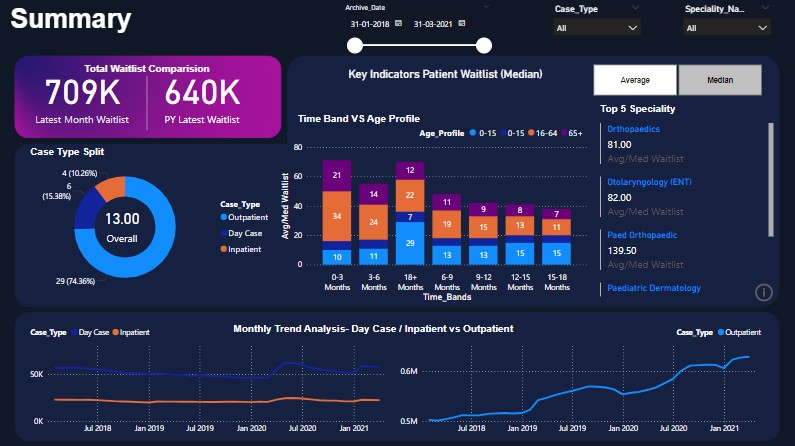

The dashboard page shown, as its layout file describes it:
{"tool":"powerbi","page":{"name":"Summary","canvas":[1280,720],"ordinal":0},"visuals":[{"type":"card","fields":{"Values":["All_Data.Latest Month Waitlist"]},"box":[48,96,176,112],"z":0},{"type":"card","fields":{"Values":["All_Data.PY Latest Waitlist"]},"box":[240,96,176,112],"z":1000},{"type":"slicer","fields":{"Values":["Calculation Method.Calc Method"]},"box":[928,96,320,64],"z":2000},{"type":"donutChart","fields":{"Category":["All_Data.Case_Type"],"Y":["All_Data.Avg/Med Waitlist"]},"box":[47.5,245,400,235],"z":3000},{"type":"columnChart","fields":{"Y":["All_Data.Avg/Med Waitlist"],"Category":["All_Data.Time_Bands"],"Series":["All_Data.Age_Profile"]},"box":[447.5,192.5,500,296.2],"z":4000},{"type":"multiRowCard","fields":{"Values":["All_Data.Speciality_Name","All_Data.Avg/Med Waitlist"]},"box":[960,192.5,287.5,287.5],"z":5000},{"type":"card","fields":{"Values":["All_Data.NoDataLeft"]},"box":[0,541.2,571.2,155],"z":5500},{"type":"lineChart","fields":{"Category":["All_Data.Archive_Date"],"Y":["Sum(All_Data.Total)"],"Series":["All_Data.Case_Type"]},"box":[48,512,592,192],"z":6000},{"type":"card","fields":{"Values":["All_Data.NoDataRight"]},"box":[663.8,541.2,571.2,155],"z":6500},{"type":"lineChart","fields":{"Category":["All_Data.Archive_Date"],"Y":["Sum(All_Data.Total)"],"Series":["All_Data.Case_Type"]},"box":[640,512,592,192],"z":7000},{"type":"slicer","fields":{"Values":["All_Data.Archive_Date"]},"box":[544,0,256,96],"z":8000},{"type":"slicer","fields":{"Values":["All_Data.Case_Type"]},"box":[880,0,160,80],"z":9000},{"type":"slicer","fields":{"Values":["All_Data.Speciality_Name"]},"box":[1088,0,160,80],"z":10000},{"type":"textbox","box":[16,0,512,80],"z":11000},{"type":"card","fields":{"Values":["All_Data.Avg/Med Waitlist"]},"box":[144,304,112,112],"z":12000},{"type":"shape","box":[90,122.5,300,86.2],"z":13000},{"type":"textbox","box":[90,96.2,300,31.2],"z":14000},{"type":"textbox","box":[47.5,228.8,352.5,32.5],"z":15000},{"type":"textbox","box":[475,176.2,218.8,32.5],"z":16000},{"type":"textbox","box":[960,160,156.2,32.5],"z":17000},{"type":"textbox","box":[100,512.5,1003.8,38.8],"z":18000},{"type":"card","fields":{"Values":["All_Data.Dynamic Title"]},"box":[483.8,83.8,466.2,68.8],"z":19000},{"type":"actionButton","box":[1208.8,448.8,38.8,40],"z":22000}]}

Visuals, with their boxes in screenshot pixels (x1, y1, x2, y2), scaled from the page's 1280x720 canvas onto the 795x446 screenshot:
card - All_Data.Latest Month Waitlist: [30, 59, 139, 129]
card - All_Data.PY Latest Waitlist: [149, 59, 258, 129]
slicer - Calculation Method.Calc Method: [576, 59, 775, 99]
donutChart - All_Data.Case_Type x All_Data.Avg/Med Waitlist: [30, 152, 278, 297]
columnChart - All_Data.Avg/Med Waitlist x All_Data.Time_Bands: [278, 119, 588, 303]
multiRowCard - All_Data.Speciality_Name x All_Data.Avg/Med Waitlist: [596, 119, 775, 297]
card - All_Data.NoDataLeft: [0, 335, 355, 431]
lineChart - All_Data.Archive_Date x Sum(All_Data.Total): [30, 317, 398, 436]
card - All_Data.NoDataRight: [412, 335, 767, 431]
lineChart - All_Data.Archive_Date x Sum(All_Data.Total): [398, 317, 765, 436]
slicer - All_Data.Archive_Date: [338, 0, 497, 59]
slicer - All_Data.Case_Type: [547, 0, 646, 50]
slicer - All_Data.Speciality_Name: [676, 0, 775, 50]
textbox: [10, 0, 328, 50]
card - All_Data.Avg/Med Waitlist: [89, 188, 159, 258]
shape: [56, 76, 242, 129]
textbox: [56, 60, 242, 79]
textbox: [30, 142, 248, 162]
textbox: [295, 109, 431, 129]
textbox: [596, 99, 693, 119]
textbox: [62, 317, 686, 341]
card - All_Data.Dynamic Title: [300, 52, 590, 95]
actionButton: [751, 278, 775, 303]
